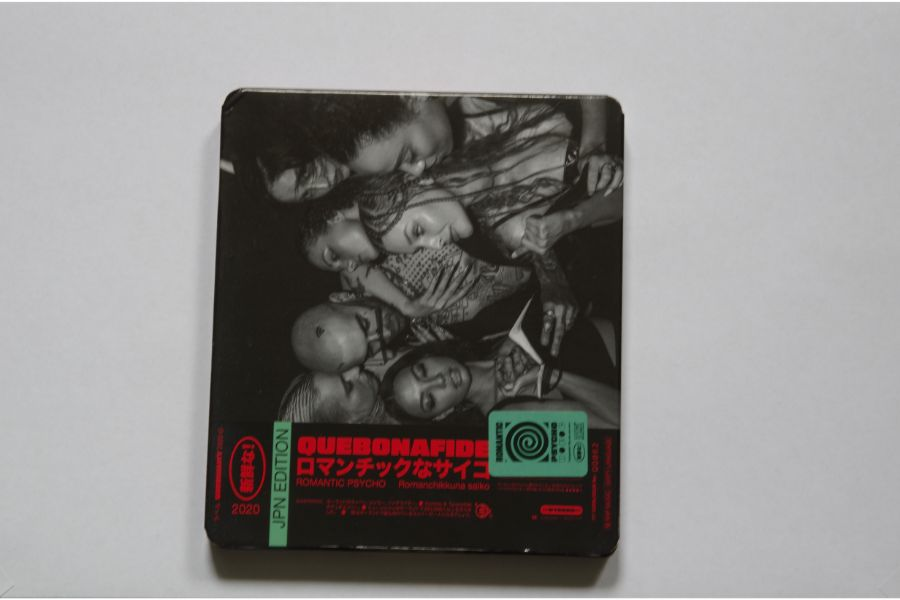album: (202, 75, 618, 563)
